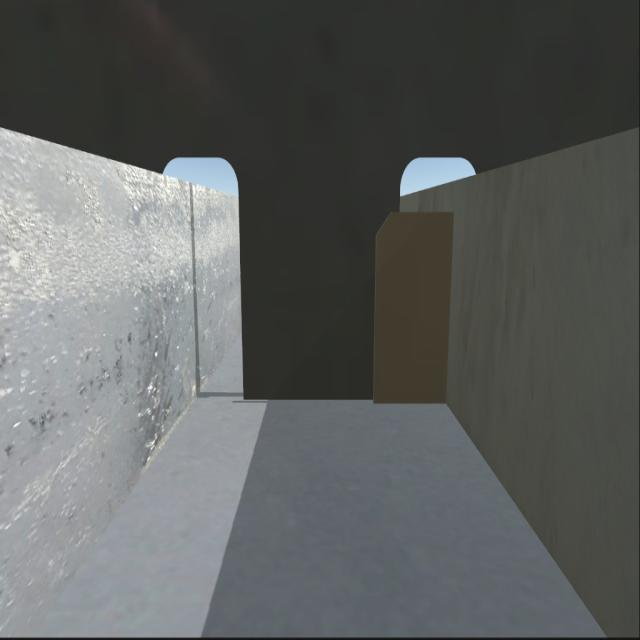fillet_yong_jeop_jang: (241, 396, 447, 406)
longi_yong_jeop_jang: (442, 220, 455, 404)
plate_CP03: (376, 217, 451, 398)
